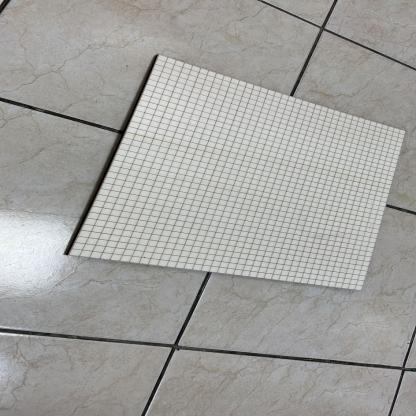grid: (57, 42, 410, 306)
